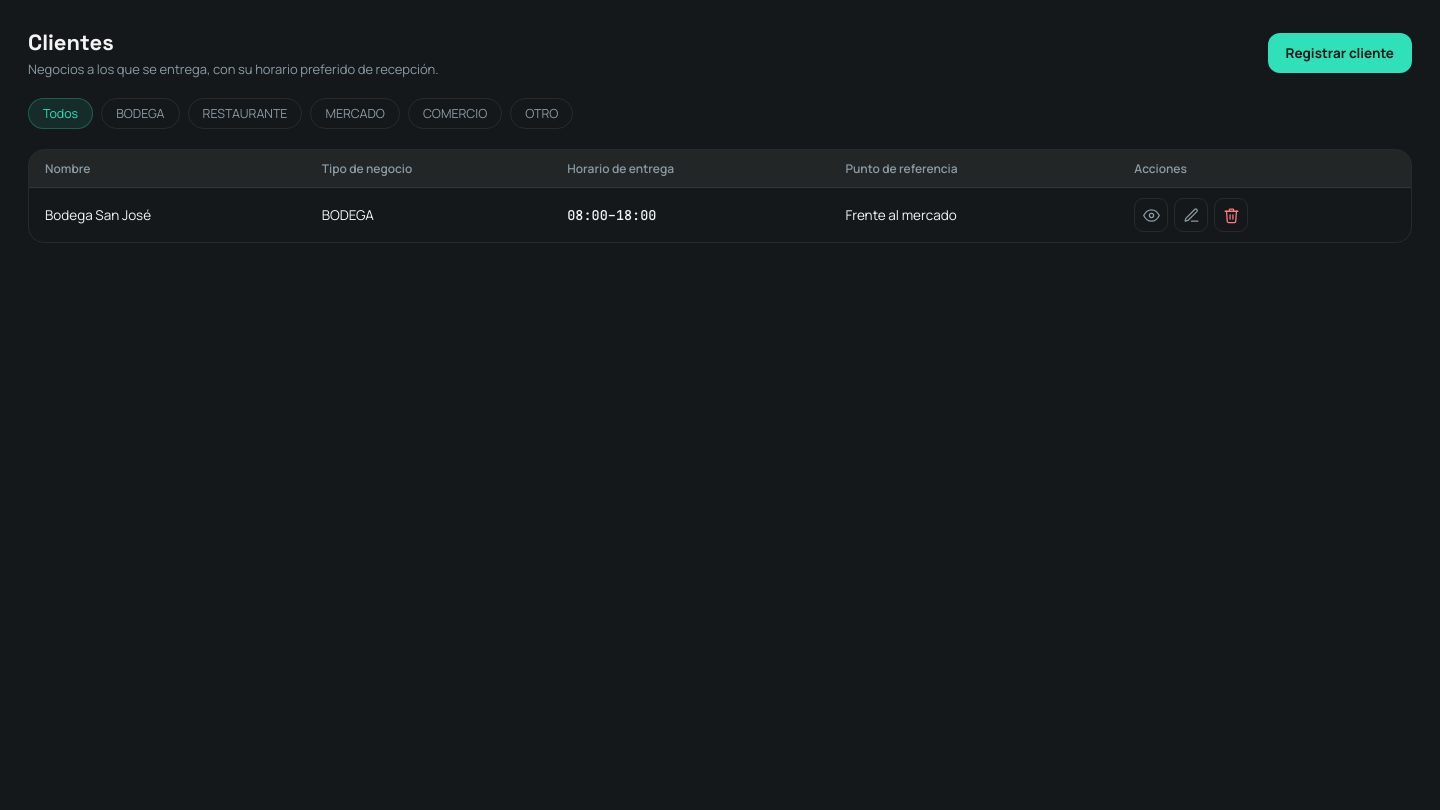
Test: Clientes: detalle, edición y eliminación › el ícono de ver abre el detalle con los datos del cliente
The image size is (1440, 810).
Click the button named "Ver detalle de Bodega San José" at (1151, 215), box [1134,198,1168,232]
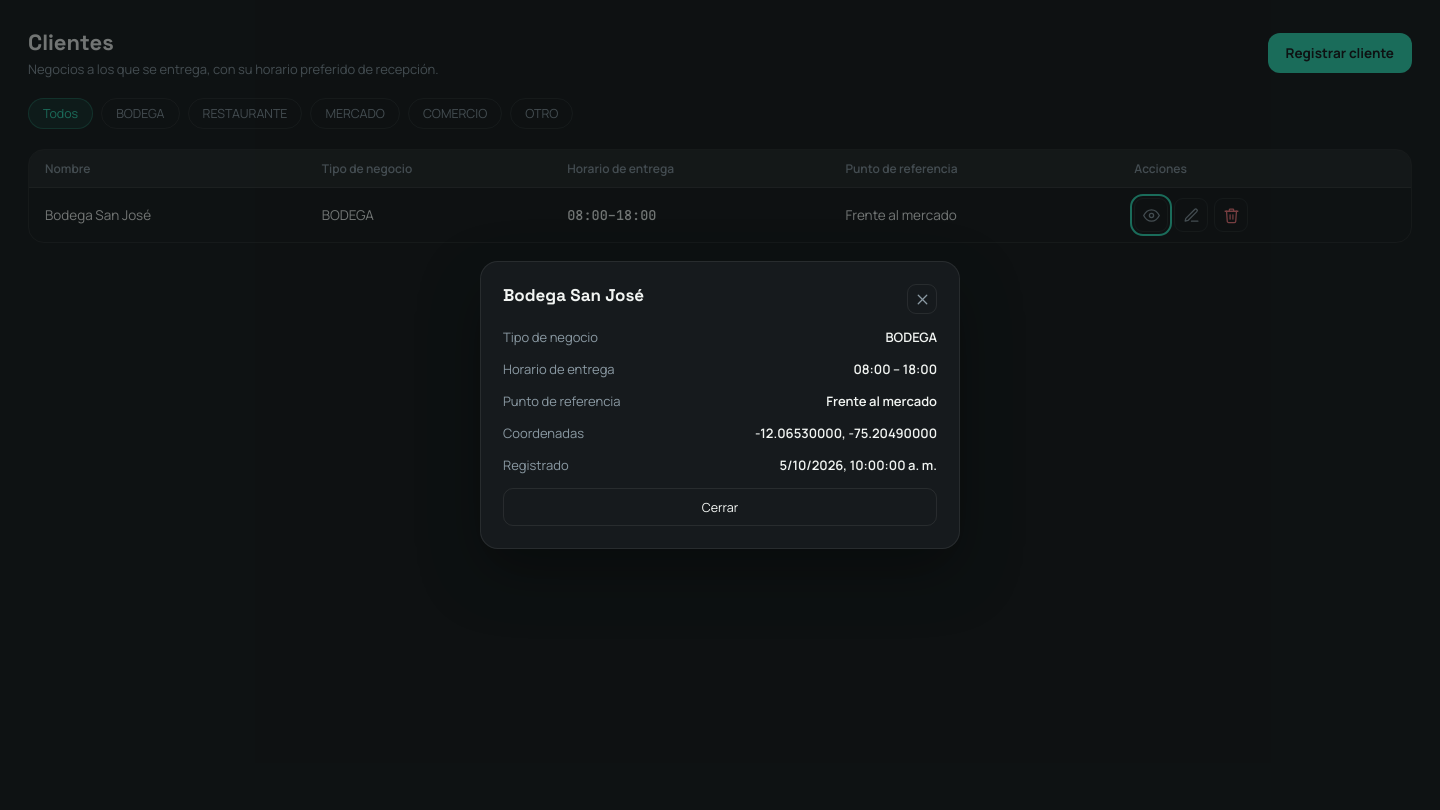
Now the text "Frente al mercado" is shown, box [826,392,937,410]
Now the text "-12.06530000, -75.20490000" is shown, box [755,424,937,442]
Press Escape
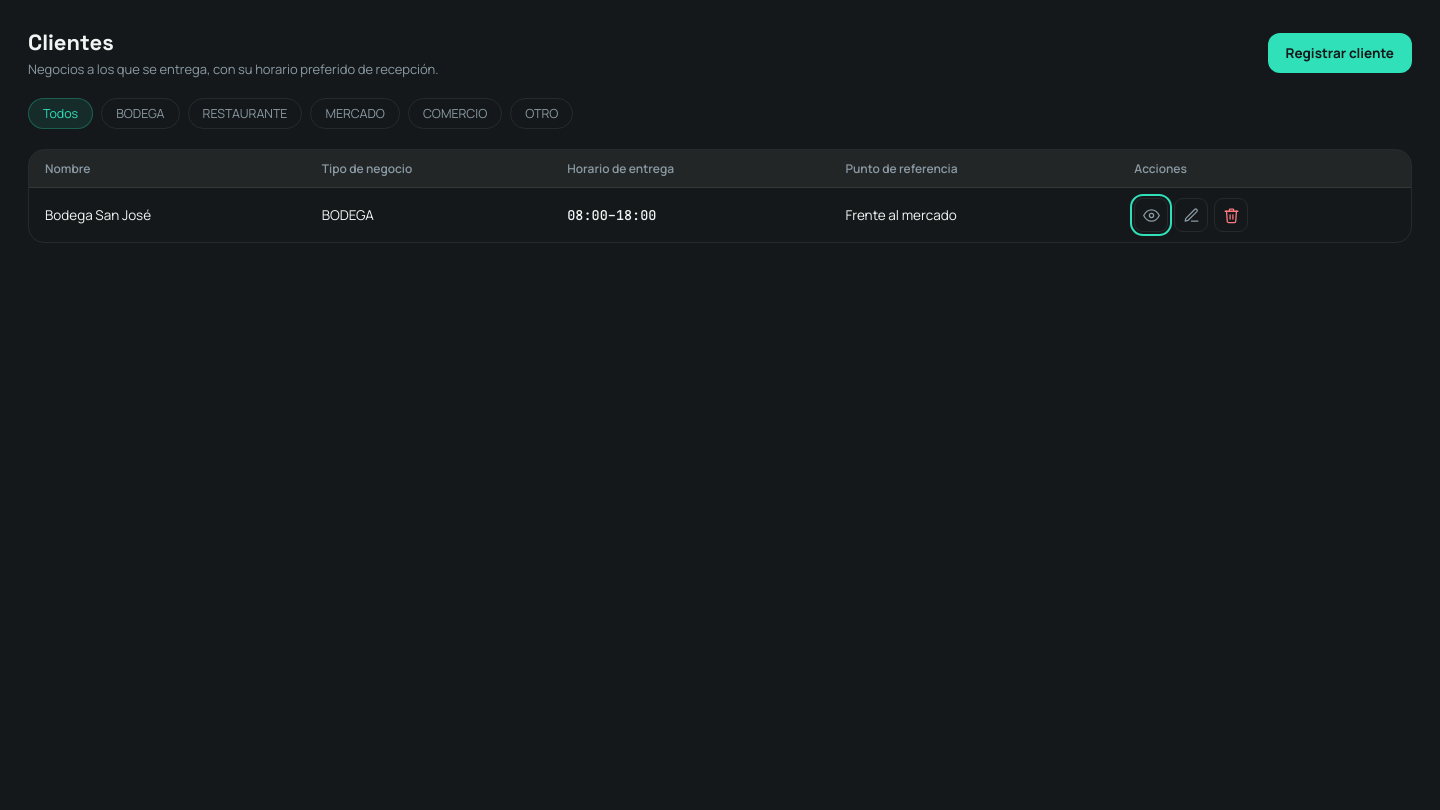
Now the dialog is gone
